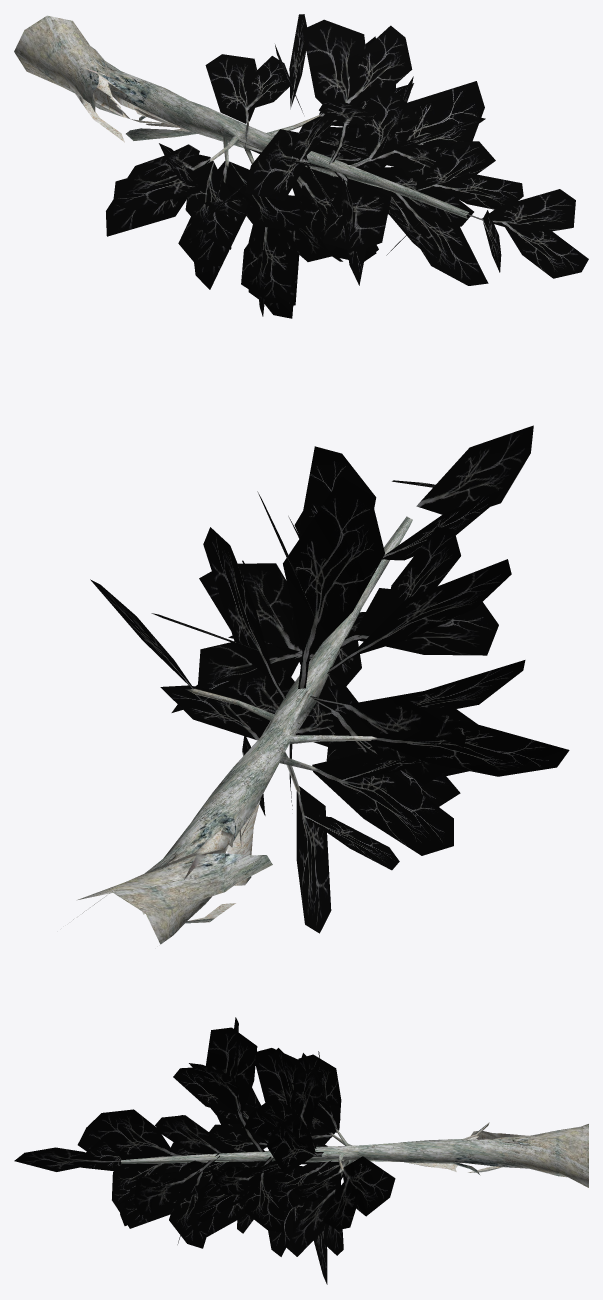
Rendered from tree_destroyed_snow_tree_a.glb.
3 renders of one model, top to bottom at view 1: azimuth 30°, elevation 25°; view 2: azimuth 150°, elevation 25°; view 3: azimuth 270°, elevation 25°, orthographic. The views are drawn at different scales.
Size of the model in its own units: 177 by 167 by 347.
Materials: 2 (2 with a texture image).
